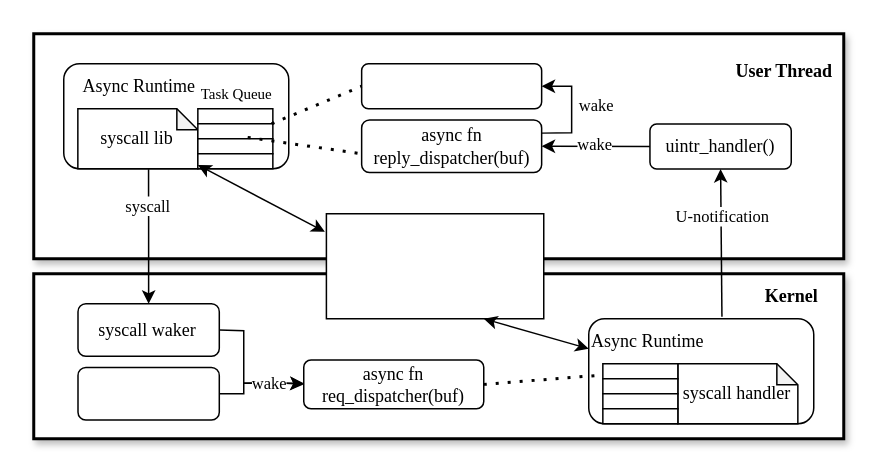
This 879x476 diagram has some shape labels left out. The centre of each missing label's shape, as x and y in pixels:
"async fn system_call()" goes at point 451,85.
"kernel scheduler" goes at point 147,393.
"shared memory" goes at point 434,265.
